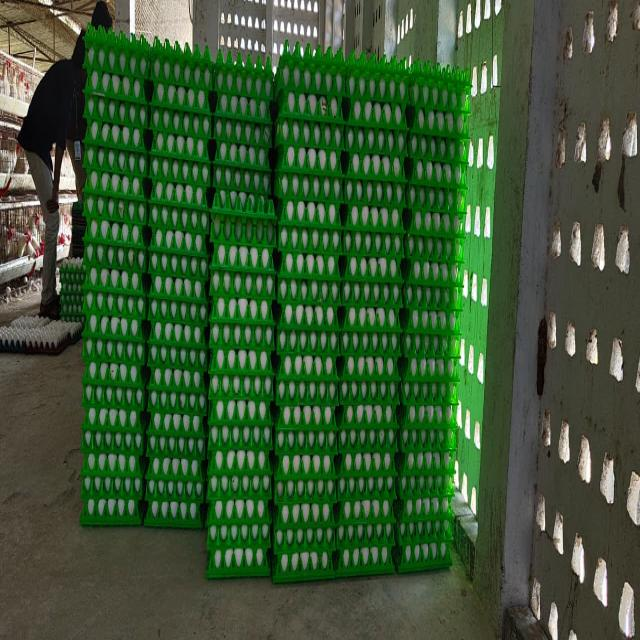egg_tray: (272, 51, 342, 580), (146, 41, 212, 525), (395, 178, 464, 569), (395, 186, 464, 569), (336, 203, 403, 574), (207, 239, 274, 577), (207, 295, 273, 576), (210, 54, 274, 341), (206, 300, 272, 576), (208, 297, 273, 575), (273, 305, 338, 579), (274, 305, 338, 579), (336, 307, 400, 574), (80, 266, 146, 523), (396, 307, 459, 569), (343, 58, 408, 307), (148, 203, 208, 458), (404, 117, 468, 345), (396, 334, 458, 569), (80, 312, 147, 522), (209, 194, 275, 407), (146, 297, 207, 525), (146, 297, 206, 525), (209, 200, 274, 402), (276, 200, 340, 404), (80, 328, 146, 523), (402, 198, 464, 401), (206, 397, 272, 576), (396, 381, 456, 569), (272, 405, 336, 580), (274, 45, 344, 200), (84, 30, 148, 199), (209, 244, 274, 407), (336, 404, 397, 574), (80, 362, 144, 524), (150, 40, 212, 207), (336, 403, 396, 574), (145, 363, 206, 526), (403, 235, 463, 398), (210, 241, 274, 392), (396, 406, 455, 569), (278, 202, 341, 354), (274, 351, 337, 502), (344, 58, 408, 206), (344, 60, 408, 207), (404, 184, 466, 335), (83, 264, 146, 410), (84, 194, 146, 341), (276, 119, 343, 255), (274, 407, 336, 552), (80, 384, 144, 524), (345, 58, 408, 199), (408, 64, 470, 207), (82, 317, 147, 452), (80, 385, 143, 522), (207, 446, 272, 576), (213, 52, 272, 194), (210, 194, 274, 324), (148, 156, 209, 290), (84, 143, 146, 271), (84, 146, 146, 271), (148, 199, 208, 326), (84, 29, 148, 147), (148, 201, 209, 324), (210, 190, 276, 300), (83, 79, 148, 189), (148, 292, 207, 412), (213, 52, 272, 170), (210, 194, 276, 299), (84, 116, 148, 223), (396, 451, 454, 569), (82, 344, 146, 449), (146, 413, 205, 526), (278, 200, 342, 302), (342, 203, 404, 308), (398, 386, 457, 493), (274, 110, 343, 201), (346, 55, 409, 153), (274, 405, 338, 501), (340, 307, 400, 406), (276, 93, 344, 179), (345, 105, 407, 198), (150, 93, 211, 186), (212, 106, 271, 201), (148, 318, 206, 413), (206, 491, 270, 577), (275, 43, 345, 120), (148, 321, 206, 413), (208, 324, 273, 406), (84, 121, 148, 201), (410, 62, 470, 147), (84, 122, 148, 201), (206, 498, 270, 577), (344, 125, 404, 209), (84, 26, 150, 102), (206, 500, 270, 578), (408, 103, 468, 186), (83, 120, 148, 196), (272, 503, 334, 582), (342, 228, 404, 307), (336, 493, 395, 575), (272, 502, 334, 580), (83, 265, 146, 341), (84, 265, 146, 342), (150, 109, 210, 188), (274, 427, 336, 503), (150, 39, 212, 114), (404, 233, 464, 310), (213, 113, 270, 194), (80, 452, 143, 524), (82, 403, 144, 476), (144, 452, 204, 527), (340, 306, 402, 378), (401, 328, 460, 403), (394, 497, 453, 572), (148, 269, 208, 342), (150, 39, 212, 109), (214, 50, 273, 121), (214, 51, 273, 122), (148, 212, 208, 279), (80, 463, 144, 525), (274, 114, 345, 169), (208, 398, 273, 458), (276, 141, 342, 200), (398, 448, 455, 516), (208, 344, 273, 402), (274, 147, 342, 202), (276, 346, 338, 406), (276, 301, 340, 358), (209, 296, 274, 352), (84, 215, 146, 273), (278, 250, 340, 307), (408, 130, 468, 188), (276, 141, 342, 193), (276, 303, 338, 358), (336, 518, 394, 576), (84, 92, 149, 143), (406, 183, 466, 238), (340, 349, 400, 404), (212, 140, 270, 195), (410, 136, 468, 188), (0, 317, 82, 353), (147, 410, 206, 459), (338, 403, 398, 451), (398, 402, 457, 450), (344, 169, 405, 209), (272, 543, 334, 582), (83, 331, 146, 367), (405, 334, 456, 378), (150, 286, 207, 324), (83, 192, 148, 225), (151, 125, 208, 162), (82, 382, 144, 413), (148, 202, 209, 233), (274, 174, 342, 201), (150, 178, 208, 209), (152, 275, 206, 308), (60, 258, 85, 322), (60, 285, 84, 322), (296, 306, 333, 330), (70, 200, 86, 254), (60, 258, 85, 291), (60, 290, 84, 323), (291, 503, 330, 521), (420, 78, 444, 105), (0, 327, 26, 351), (300, 479, 332, 497), (10, 316, 51, 329), (301, 381, 334, 396), (277, 378, 296, 403), (84, 337, 116, 351), (211, 378, 232, 398), (238, 425, 262, 441), (280, 382, 296, 405), (233, 217, 258, 231), (150, 345, 178, 356), (120, 102, 147, 113), (72, 199, 84, 223), (176, 140, 198, 151), (87, 290, 121, 297), (122, 76, 144, 86), (88, 71, 110, 81), (87, 95, 112, 103), (418, 310, 436, 321), (359, 308, 392, 314), (86, 481, 108, 490), (192, 348, 206, 362), (438, 360, 452, 374), (302, 405, 328, 412), (85, 338, 100, 350), (305, 527, 324, 536), (152, 107, 166, 117), (451, 150, 463, 161), (131, 345, 143, 356), (346, 454, 376, 458), (216, 220, 224, 234), (190, 166, 202, 175), (440, 503, 448, 516), (212, 360, 220, 373), (210, 501, 221, 510), (209, 501, 218, 511), (410, 310, 418, 321), (154, 190, 165, 198), (129, 456, 136, 468), (196, 280, 205, 289), (158, 346, 174, 351), (138, 53, 146, 63), (408, 193, 414, 206), (194, 281, 205, 288), (208, 487, 217, 495), (200, 310, 206, 321), (432, 503, 438, 514), (108, 318, 119, 324), (178, 346, 191, 351), (282, 305, 290, 313), (93, 129, 100, 138), (370, 502, 377, 511), (226, 120, 235, 127), (298, 157, 306, 164), (268, 334, 272, 348), (214, 195, 220, 204), (102, 363, 120, 366), (247, 387, 256, 393), (210, 476, 217, 483), (158, 167, 164, 175), (130, 105, 146, 108), (461, 166, 464, 181), (85, 334, 90, 343), (383, 454, 392, 459), (267, 386, 272, 395), (405, 381, 416, 385), (220, 221, 224, 232), (300, 230, 314, 233), (459, 86, 466, 92), (190, 116, 194, 126), (198, 114, 208, 118), (28, 327, 36, 332), (154, 85, 162, 90), (241, 318, 251, 322), (412, 85, 420, 90), (358, 478, 366, 483), (88, 373, 96, 378), (97, 455, 106, 459), (356, 502, 368, 505), (353, 395, 362, 399), (392, 369, 396, 378), (248, 124, 257, 128), (414, 504, 418, 513), (110, 424, 122, 427), (279, 318, 282, 330), (132, 364, 138, 370), (132, 138, 139, 143), (369, 478, 376, 483), (281, 407, 292, 410), (424, 212, 435, 215), (262, 126, 270, 130), (258, 314, 262, 322), (103, 363, 119, 365), (254, 476, 260, 481), (259, 282, 264, 288), (345, 483, 350, 489), (352, 343, 358, 348), (88, 158, 94, 163), (101, 345, 107, 350), (414, 212, 421, 216), (260, 227, 264, 234), (103, 319, 107, 326), (153, 275, 162, 278), (87, 353, 96, 356), (282, 183, 285, 192), (400, 109, 403, 118), (233, 225, 238, 230), (283, 506, 288, 511), (352, 206, 357, 211), (256, 252, 260, 258), (307, 122, 313, 126), (300, 122, 304, 128), (260, 132, 266, 136), (414, 166, 416, 177), (346, 465, 350, 470), (300, 122, 304, 127), (333, 135, 338, 139), (334, 125, 339, 129), (382, 499, 386, 504), (236, 317, 241, 321), (187, 339, 191, 344), (227, 226, 230, 232), (236, 200, 240, 204), (422, 85, 426, 89), (292, 180, 294, 188), (227, 226, 230, 231), (372, 393, 377, 396), (257, 125, 260, 130), (155, 193, 160, 196), (61, 220, 63, 227), (97, 353, 104, 355), (162, 309, 164, 316), (298, 529, 305, 531), (365, 63, 369, 66), (244, 225, 246, 231), (238, 217, 242, 220), (356, 466, 360, 469), (202, 159, 208, 161), (294, 193, 298, 196), (218, 501, 222, 504), (180, 317, 186, 319), (241, 313, 244, 317), (435, 212, 439, 215), (276, 77, 278, 83), (350, 308, 354, 311), (276, 394, 278, 399), (88, 454, 93, 456), (96, 339, 101, 341), (292, 122, 294, 127), (202, 282, 204, 287), (374, 365, 376, 370), (178, 87, 183, 89), (107, 327, 112, 329), (180, 313, 183, 316), (280, 317, 281, 326), (114, 355, 116, 359), (446, 203, 450, 205), (220, 244, 224, 246), (268, 306, 270, 310), (90, 158, 92, 162), (192, 317, 196, 319), (450, 354, 454, 356), (370, 162, 372, 166), (86, 413, 87, 420), (239, 299, 242, 301), (104, 340, 110, 341), (426, 511, 428, 514), (397, 106, 400, 108), (119, 355, 124, 356), (112, 318, 117, 319), (222, 275, 224, 277), (264, 300, 266, 302), (300, 344, 304, 345), (293, 158, 295, 160), (304, 98, 306, 100), (106, 354, 108, 356), (121, 104, 125, 105), (324, 196, 328, 197), (67, 284, 69, 286), (392, 518, 394, 520), (449, 326, 451, 328), (104, 318, 108, 319), (106, 294, 110, 295), (457, 346, 458, 349), (259, 125, 262, 126), (103, 331, 106, 332), (430, 198, 432, 199), (213, 270, 214, 272), (332, 347, 334, 348), (438, 142, 439, 144), (262, 477, 264, 478), (260, 232, 262, 233), (215, 116, 217, 117), (431, 363, 433, 364), (447, 97, 449, 98), (444, 327, 446, 328), (325, 196, 327, 197), (446, 150, 448, 151), (441, 318, 442, 319), (114, 158, 115, 159), (258, 501, 259, 502), (138, 309, 139, 310), (115, 487, 116, 488), (111, 375, 112, 376), (63, 216, 63, 218), (436, 176, 436, 177), (133, 274, 137, 274), (214, 218, 215, 218), (230, 328, 230, 329), (376, 467, 376, 468), (376, 462, 376, 463), (454, 424, 454, 426), (177, 194, 177, 196), (178, 134, 180, 134), (212, 333, 212, 339), (316, 434, 317, 434), (157, 292, 157, 292), (185, 287, 185, 288), (185, 356, 186, 356), (176, 356, 178, 356), (150, 356, 150, 358), (228, 199, 228, 202), (352, 116, 352, 117), (198, 364, 198, 366), (188, 215, 188, 216), (217, 119, 217, 120), (201, 90, 203, 90), (432, 86, 432, 88), (461, 230, 462, 230), (390, 160, 390, 161), (86, 282, 86, 286), (212, 314, 212, 318), (396, 210, 398, 210)
